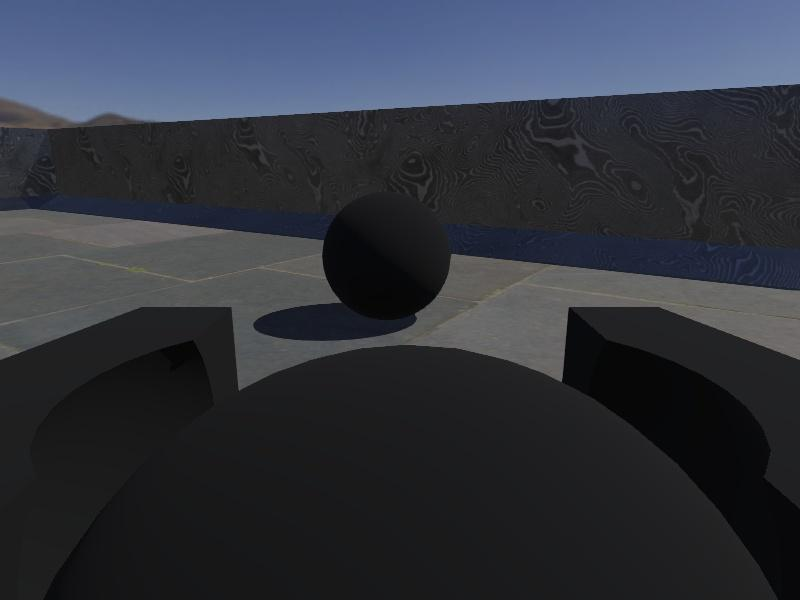black ball: (321, 189, 453, 322)
